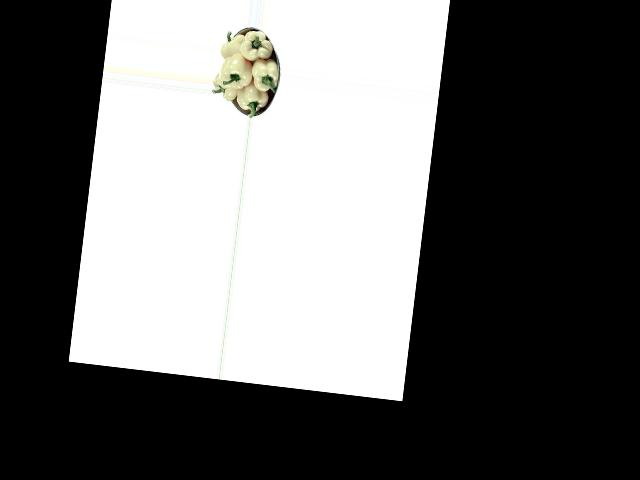bell_pepper: (211, 72, 242, 104)
